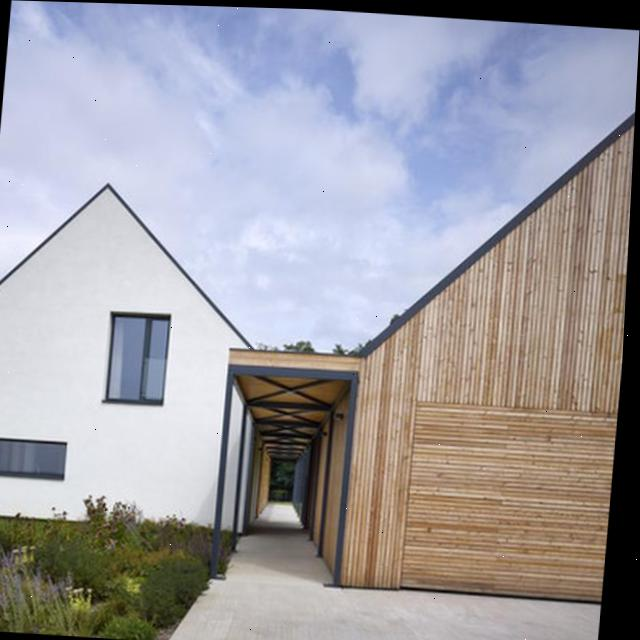building: (286, 77, 636, 604), (0, 170, 293, 541)
